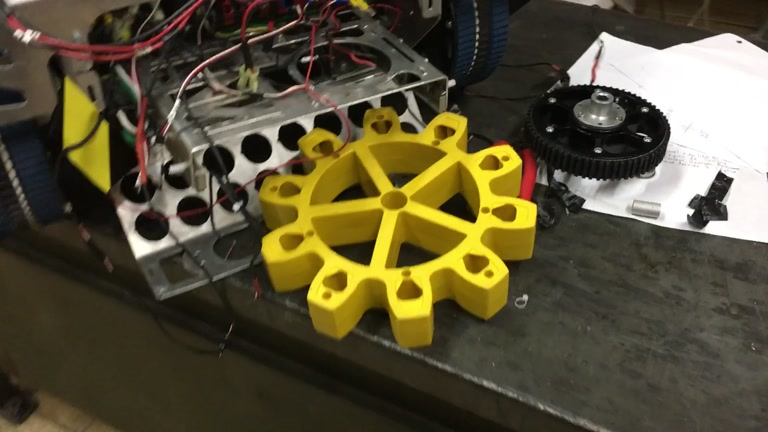gear: (260, 105, 537, 347)
